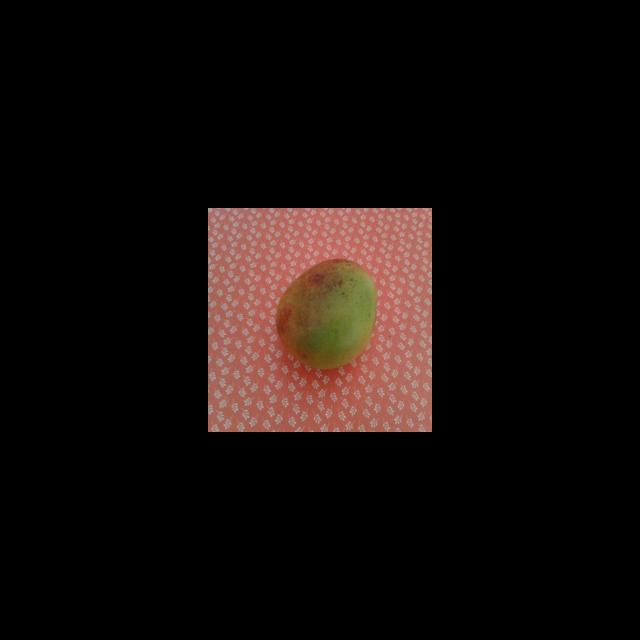Mango: (275, 257, 377, 369)
